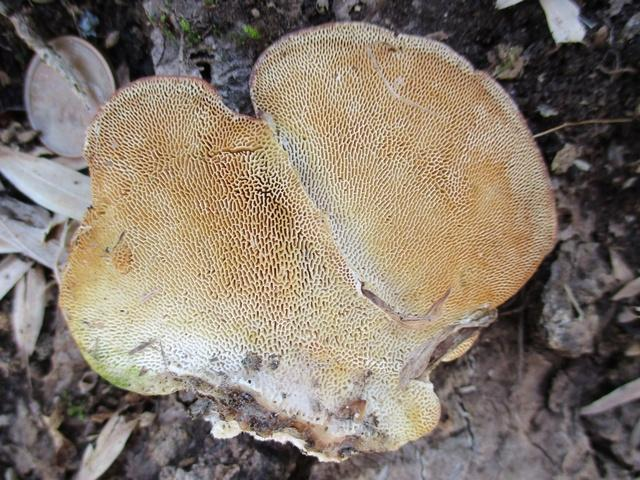Non-edible Mushroom: (55, 19, 559, 463)
